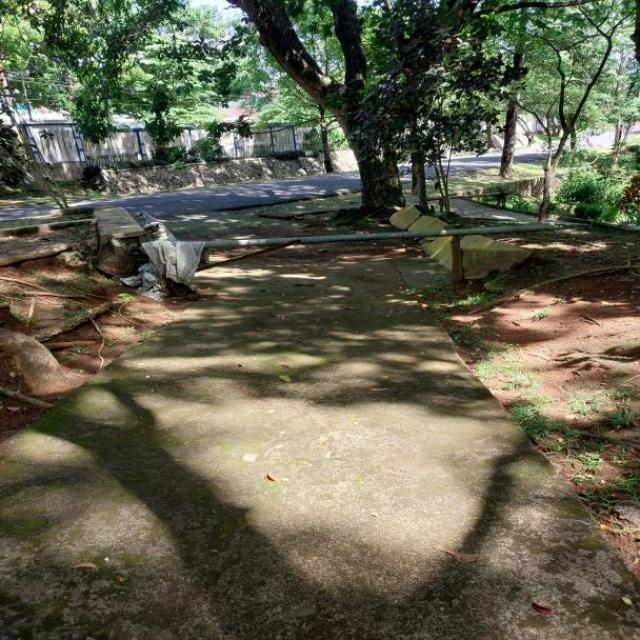barrier ahead at: (133, 221, 578, 257)
